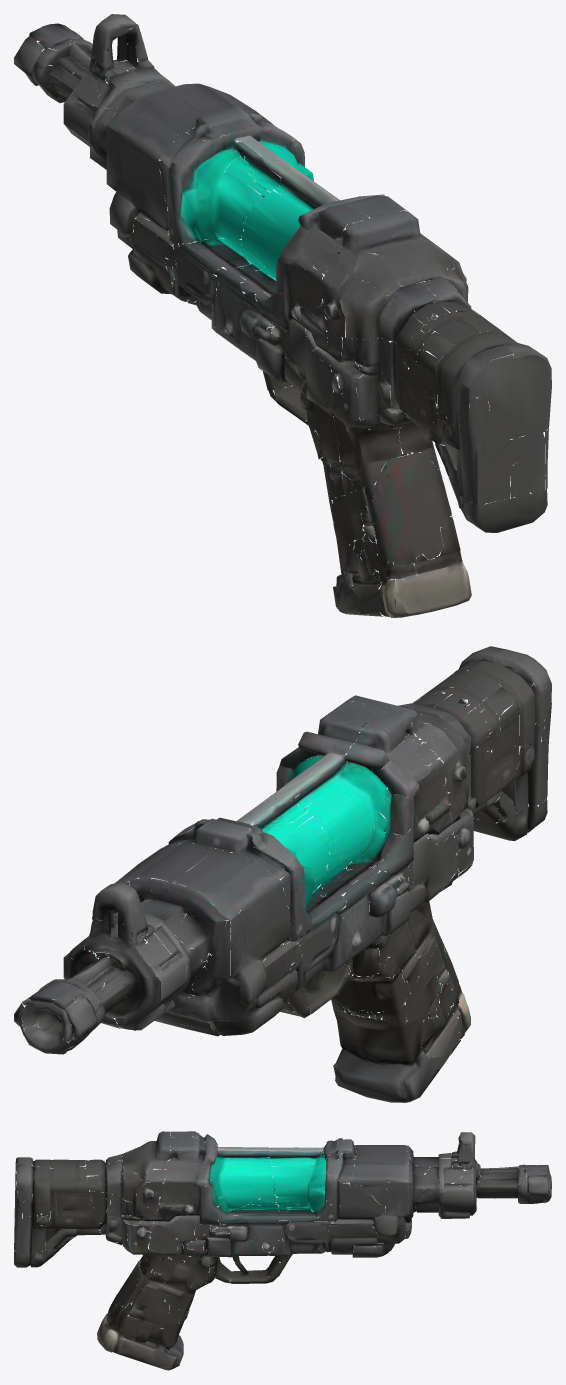
The model's file is dart.glb.
3 views of the same model, one above another, from view 1: azimuth 30°, elevation 25°; view 2: azimuth 150°, elevation 25°; view 3: azimuth 270°, elevation 25° (orthographic). The views are drawn at different scales.
Visible parts, largest first — view 1: gun; view 2: gun; view 3: gun.
Boxes of the visible parts, box(x1,y1,x2,y2) form: gun: box(14, 14, 551, 617); gun: box(14, 646, 551, 1102); gun: box(14, 1131, 551, 1370).
Size of the model in its own units: 0.1109 by 0.2922 by 0.6201.
1 material, 1 textured.
